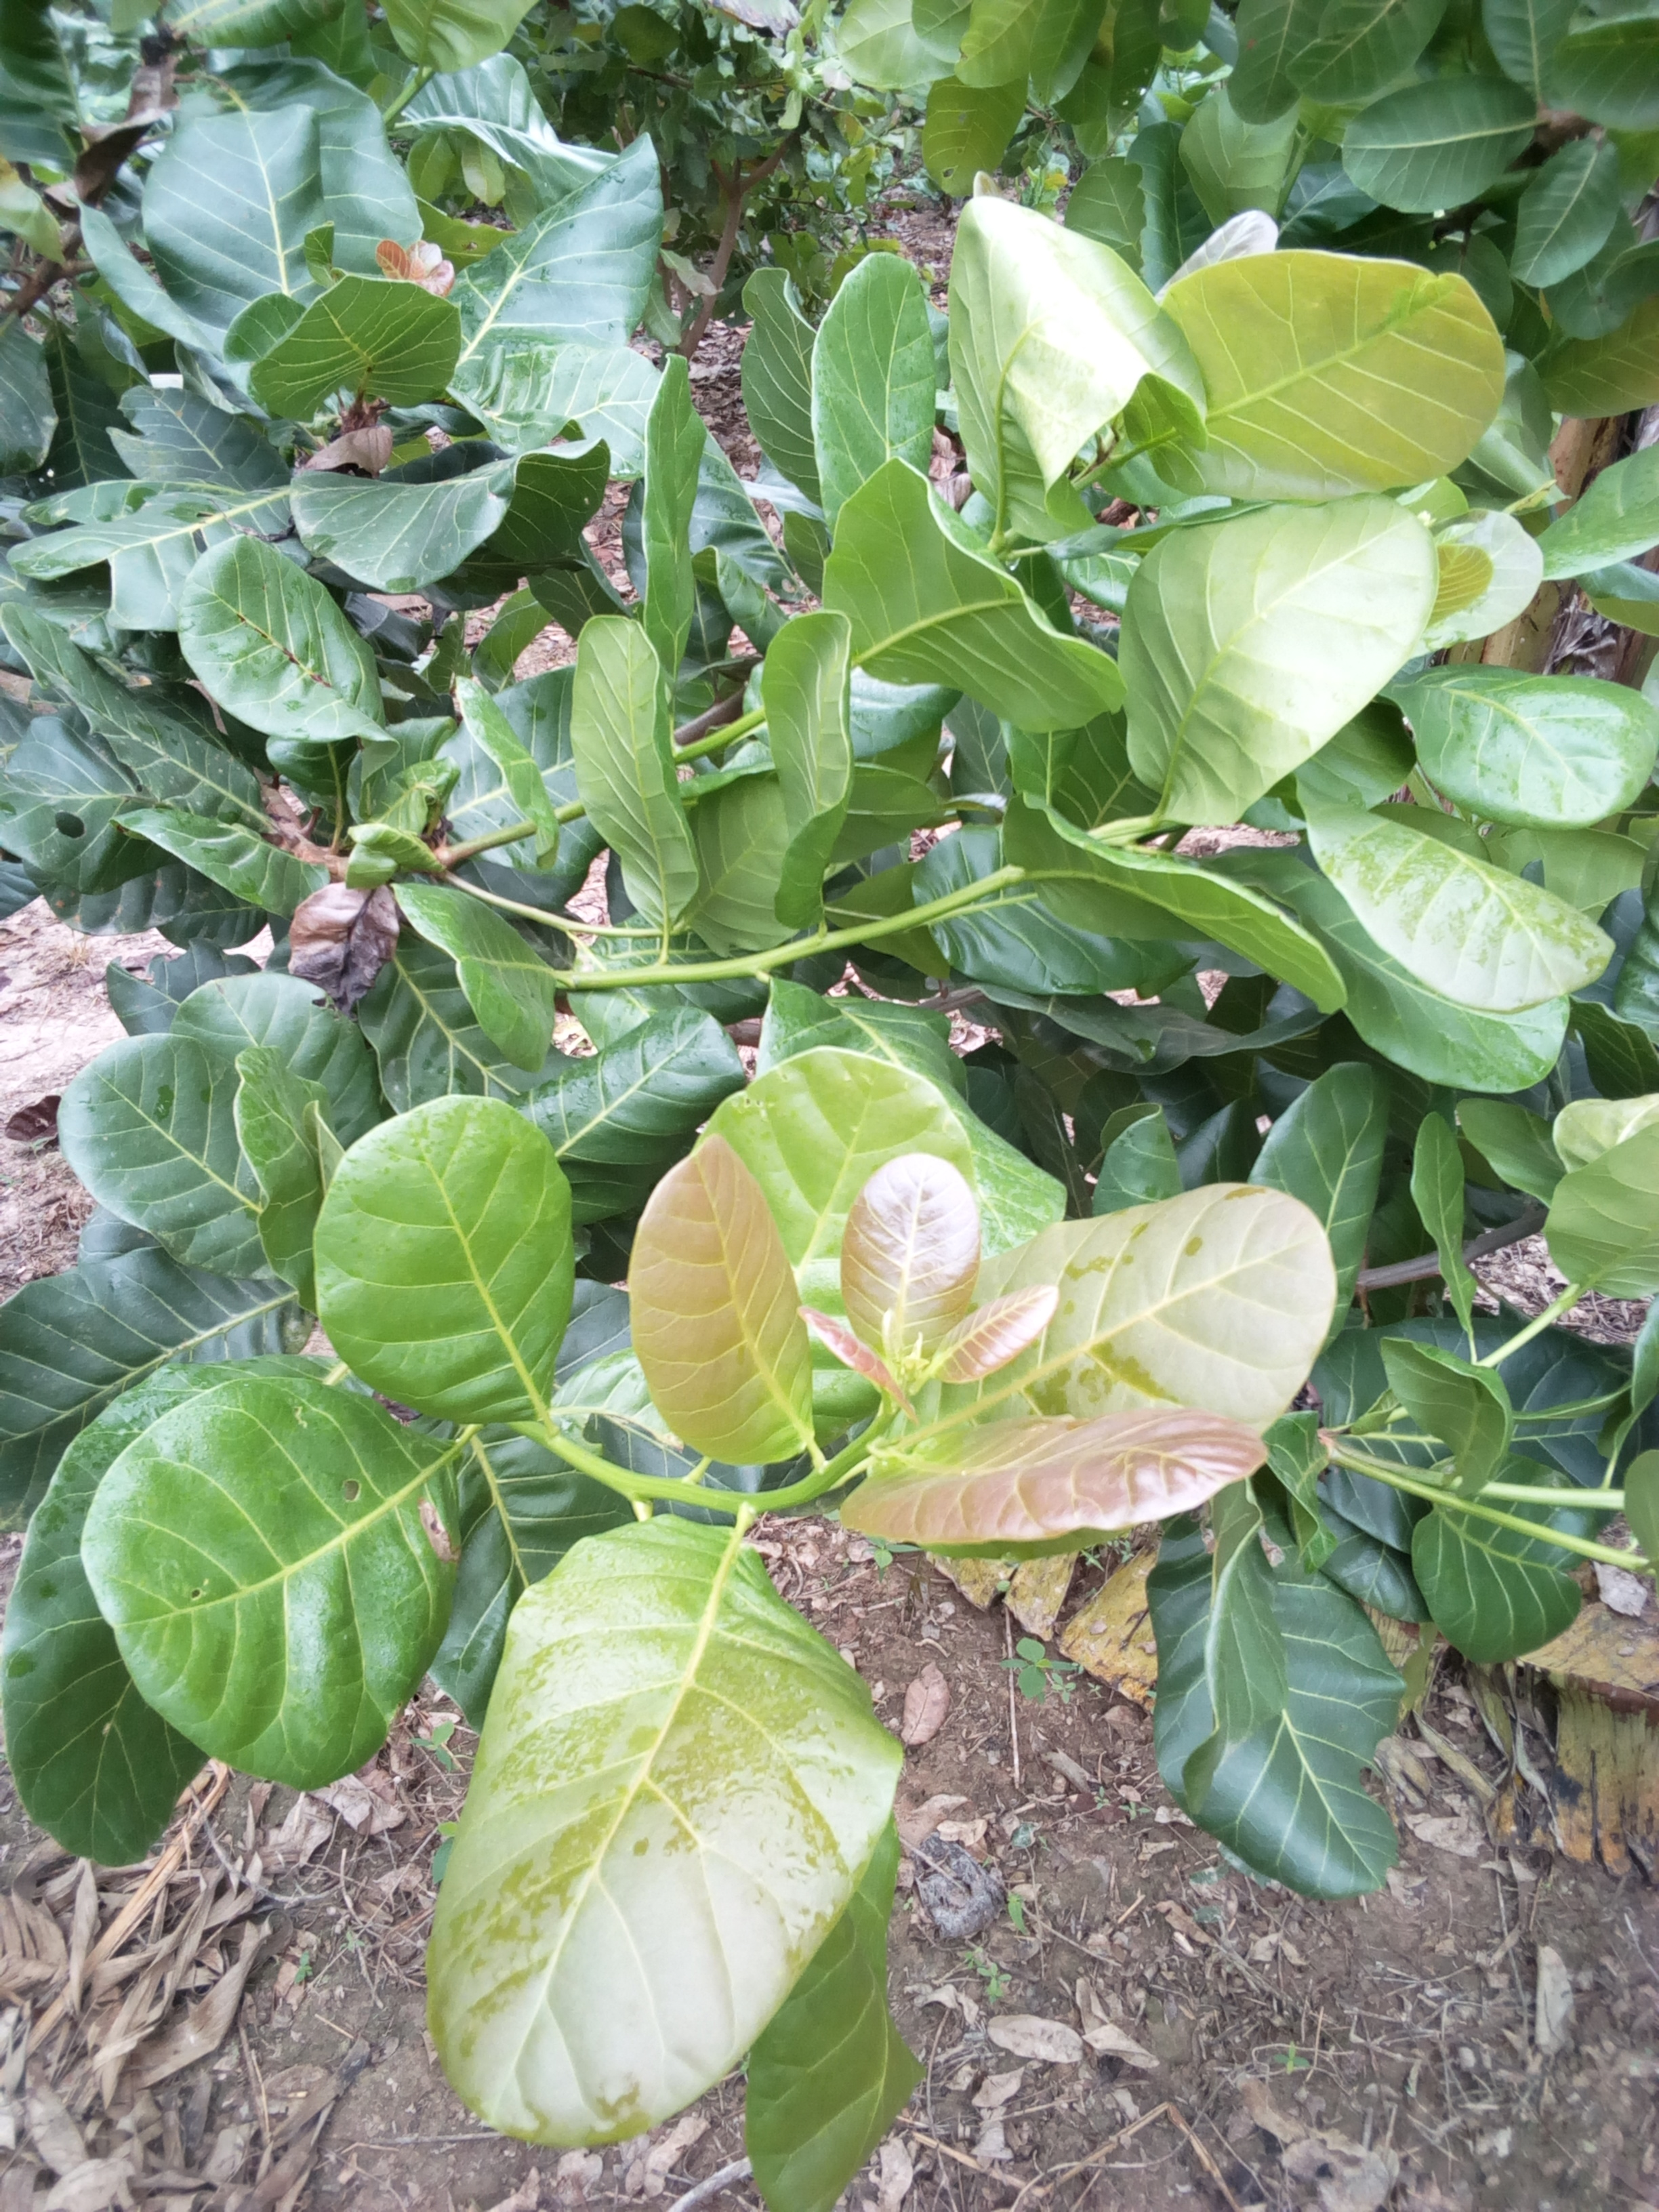Dessèchement des bourgeons: (274, 895, 389, 1012)
